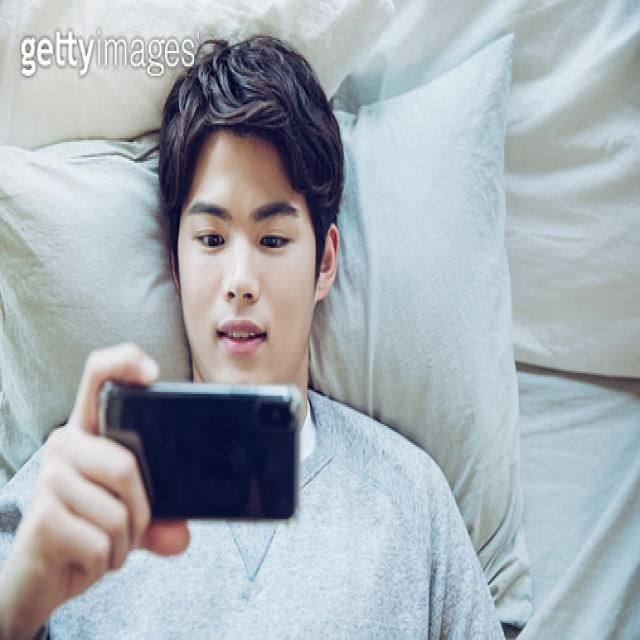Phone: (96, 380, 307, 528)
